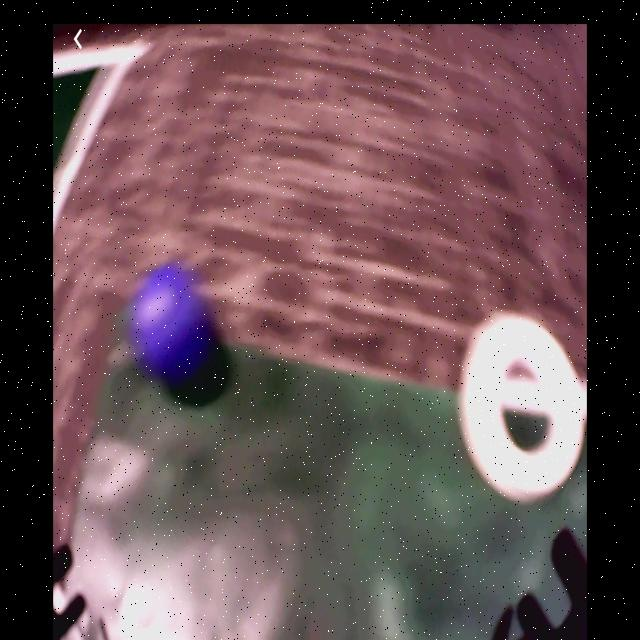ball: (135, 268, 211, 391)
